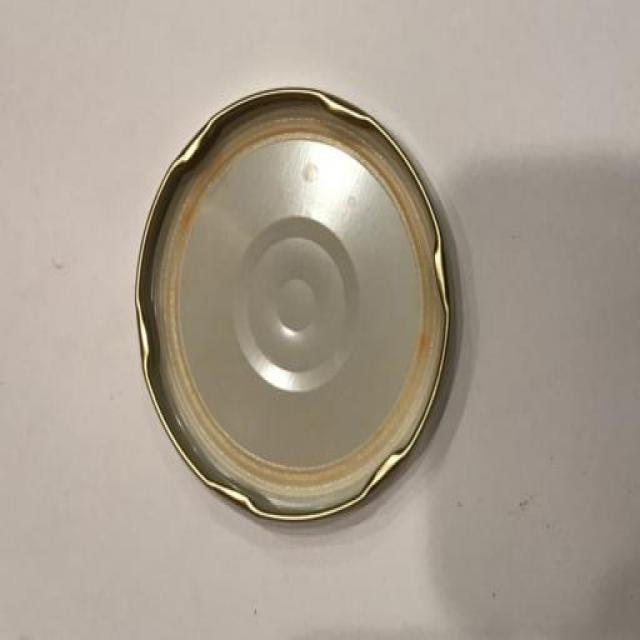metel: (118, 64, 474, 538)
